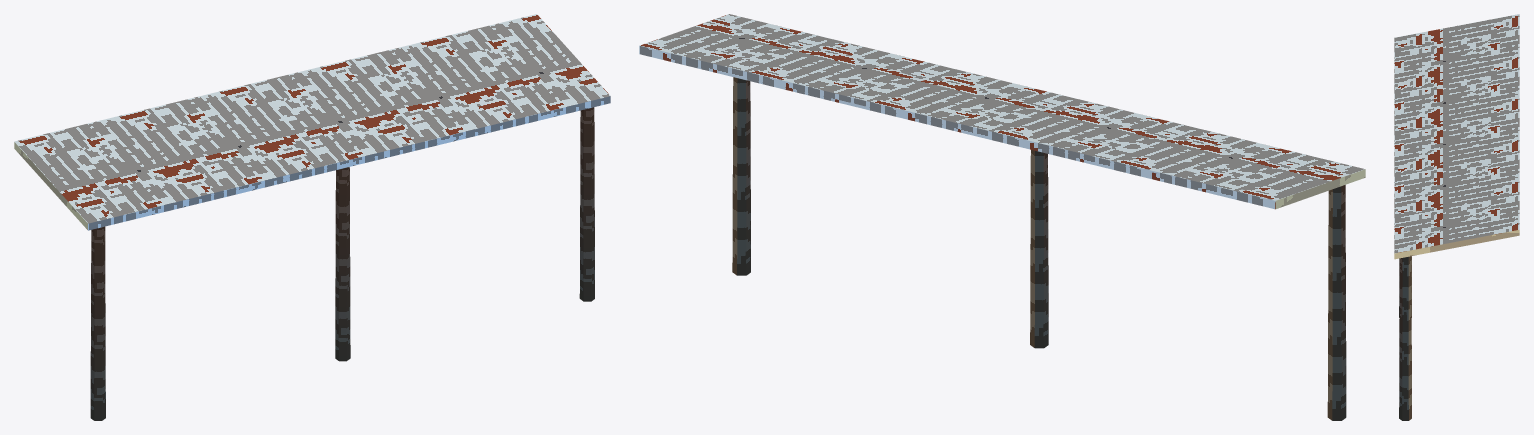
The model's file is wtown.porch__tin.glb.
3 views of the same model, side by side, from view 1: azimuth 30°, elevation 25°; view 2: azimuth 150°, elevation 25°; view 3: azimuth 270°, elevation 25° (orthographic). The views are drawn at different scales.
Visible parts, largest first — view 1: kit_porch; view 2: kit_porch; view 3: kit_porch.
Boxes of the visible parts, x1,y1,x2,y2 form: kit_porch: (14,14,610,420); kit_porch: (639,14,1365,420); kit_porch: (1394,14,1519,420).
Bounding box in the file's own units: 7.8 × 3.3 × 1.91.
3 materials, 3 textured.
